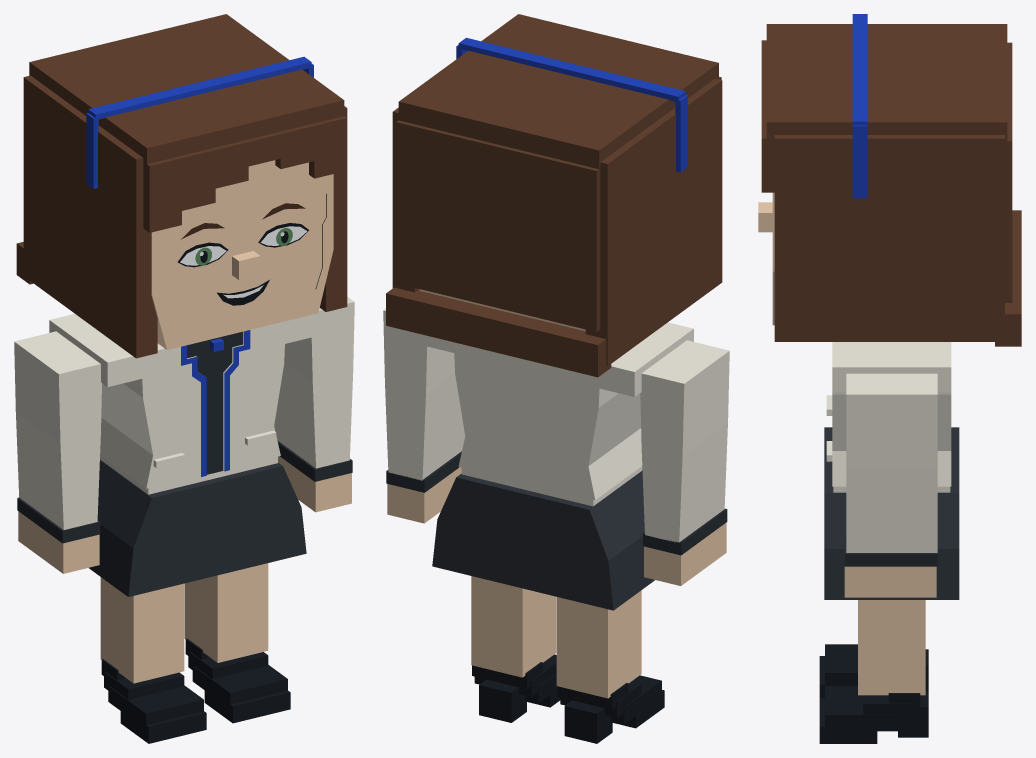
Rendered from reception_b.glb.
3 views of the same model, side by side, from view 1: azimuth 30°, elevation 25°; view 2: azimuth 150°, elevation 25°; view 3: azimuth 270°, elevation 25° (orthographic). The views are drawn at different scales.
Visible parts, largest first — view 1: char_hair_visual, char_torso_visual, char_head_visual, char_arm_negx_visual, char_leg_negx_visual, char_leg_posx_visual, char_arm_posx_visual, char_headband_visual, char_hand_negx_visual, char_hand_posx_visual, char_eye_negx_visual, char_eye_posx_visual (+1 smaller); view 2: char_hair_visual, char_torso_visual, char_arm_negx_visual, char_leg_negx_visual, char_arm_posx_visual, char_leg_posx_visual, char_headband_visual, char_hand_negx_visual, char_hand_posx_visual; view 3: char_hair_visual, char_arm_posx_visual, char_torso_visual, char_leg_posx_visual, char_hand_posx_visual, char_headband_visual, char_leg_negx_visual, char_head_visual.
Part boxes in pixels (x1,y1,x2,y2): char_hair_visual: (16, 14, 347, 358); char_torso_visual: (49, 311, 319, 596); char_head_visual: (151, 160, 333, 349); char_arm_negx_visual: (14, 331, 101, 543); char_leg_negx_visual: (100, 577, 206, 743); char_leg_posx_visual: (184, 563, 290, 723); char_arm_posx_visual: (274, 297, 354, 481); char_headband_visual: (86, 56, 313, 188); char_hand_negx_visual: (18, 511, 99, 573); char_hand_posx_visual: (278, 456, 351, 512); char_eye_negx_visual: (177, 242, 228, 267); char_eye_posx_visual: (258, 223, 308, 247); char_hair_visual: (386, 14, 722, 377); char_torso_visual: (419, 322, 693, 610); char_arm_negx_visual: (640, 340, 729, 555); char_leg_negx_visual: (556, 590, 664, 743); char_arm_posx_visual: (383, 308, 465, 492); char_leg_posx_visual: (471, 576, 560, 722); char_headband_visual: (456, 37, 687, 172); char_hand_negx_visual: (644, 522, 726, 585); char_hand_posx_visual: (387, 467, 461, 523); char_hair_visual: (761, 24, 1021, 346); char_arm_posx_visual: (844, 373, 937, 566); char_torso_visual: (824, 342, 959, 599); char_leg_posx_visual: (819, 600, 928, 743); char_hand_posx_visual: (844, 566, 936, 597); char_headband_visual: (852, 14, 867, 198); char_leg_negx_visual: (819, 644, 928, 697); char_head_visual: (758, 192, 774, 325).
Size of the model in its own units: 0.88 by 1.78 by 0.6625.
